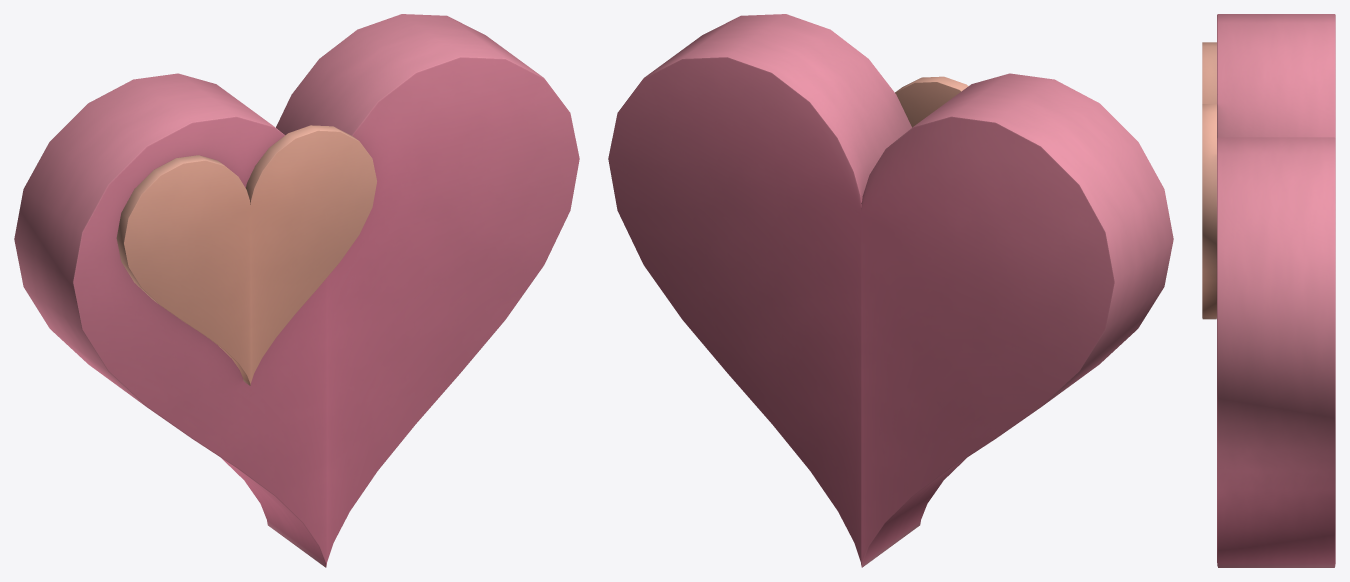
File: Heart.fbx
3 views of the same model, side by side, from view 1: azimuth 30°, elevation 25°; view 2: azimuth 150°, elevation 25°; view 3: azimuth 270°, elevation 25° (orthographic).
Visible parts, largest first — view 1: Heart; view 2: Heart; view 3: Heart.
Part boxes in pixels (x1,y1,x2,y2): Heart: (14, 14, 579, 567); Heart: (608, 14, 1173, 567); Heart: (1202, 14, 1335, 567).
Bounding box in the file's own units: 79.06 × 71.31 × 18.
